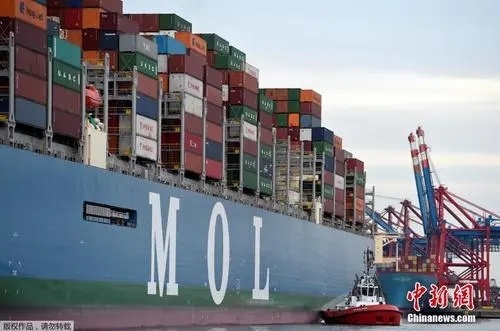Cargoship: (2, 3, 376, 329)
otherboat: (316, 247, 403, 325)
